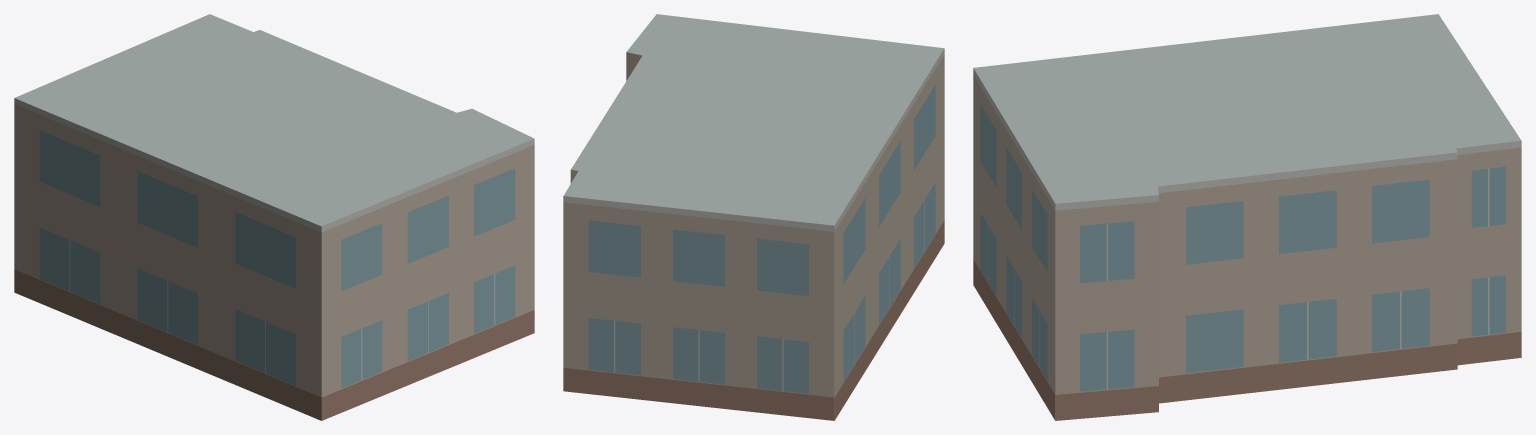
The model's file is survey-upis-32623841.glb.
The picture shows the model from 3 angles, left to right: view 1: azimuth 30°, elevation 25°; view 2: azimuth 150°, elevation 25°; view 3: azimuth 270°, elevation 25°; orthographic projection. The views are drawn at different scales.
Parts seen in each view (by area): view 1: survey-upis-32623841.tmp; view 2: survey-upis-32623841.tmp; view 3: survey-upis-32623841.tmp.
Boxes of the visible parts, x1=… form: survey-upis-32623841.tmp: x1=14, y1=14, x2=534, y2=420; survey-upis-32623841.tmp: x1=563, y1=14, x2=944, y2=420; survey-upis-32623841.tmp: x1=973, y1=14, x2=1521, y2=420.
Bounding box in the file's own units: 14.65 × 7.8 × 17.87.
